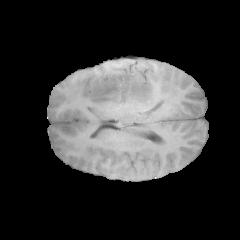glioma: (89, 70, 176, 128)
